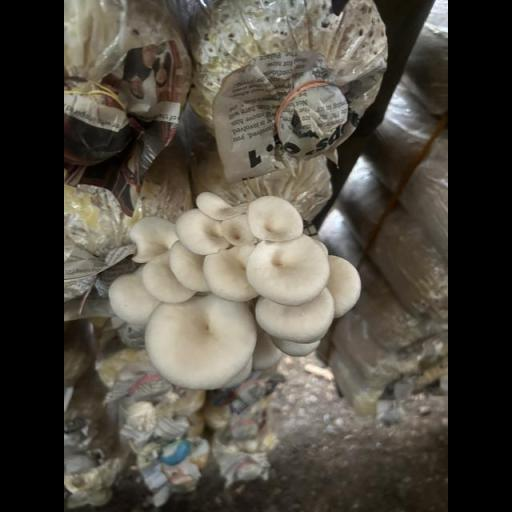White Oyster Mushroom: (99, 183, 371, 399)
